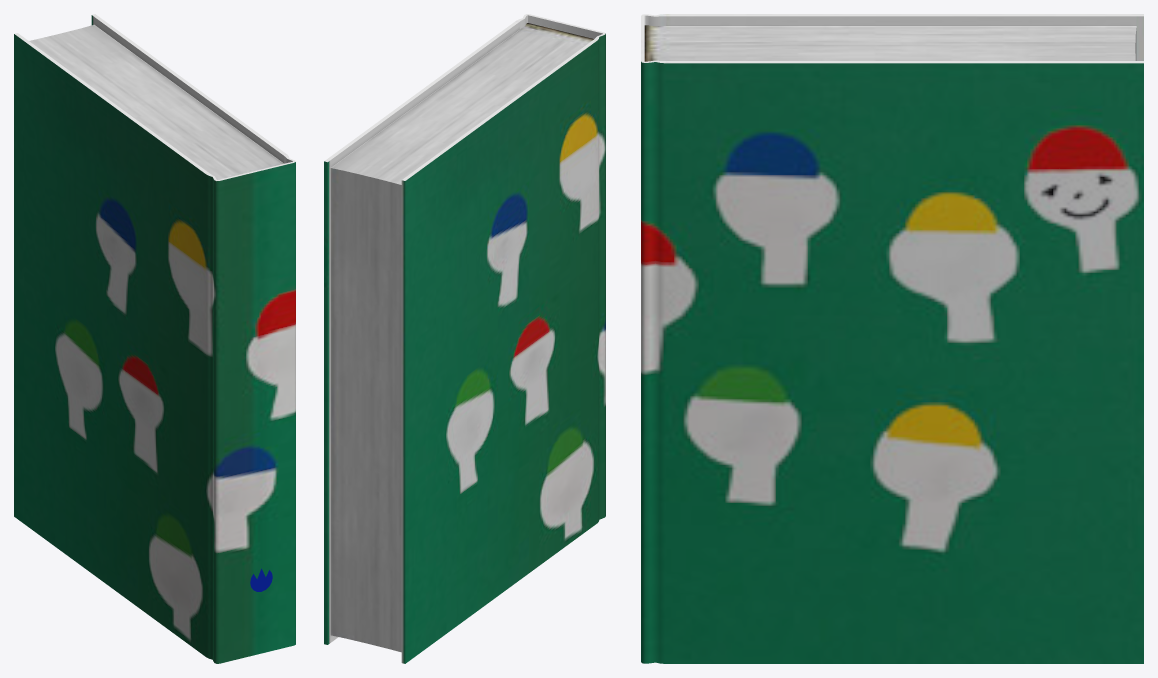
File: Book_2.fbx
3 views of the same model, side by side, from view 1: azimuth 30°, elevation 25°; view 2: azimuth 150°, elevation 25°; view 3: azimuth 270°, elevation 25° (orthographic). The views are drawn at different scales.
Parts seen in each view (by area): view 1: Book_2; view 2: Book_2; view 3: Book_2.
Boxes of the visible parts, x1,y1,x2,y2 form: Book_2: [14, 14, 295, 663]; Book_2: [324, 14, 605, 663]; Book_2: [641, 14, 1143, 663].
Size of the model in its own units: 4.4 by 25 by 19.23.
